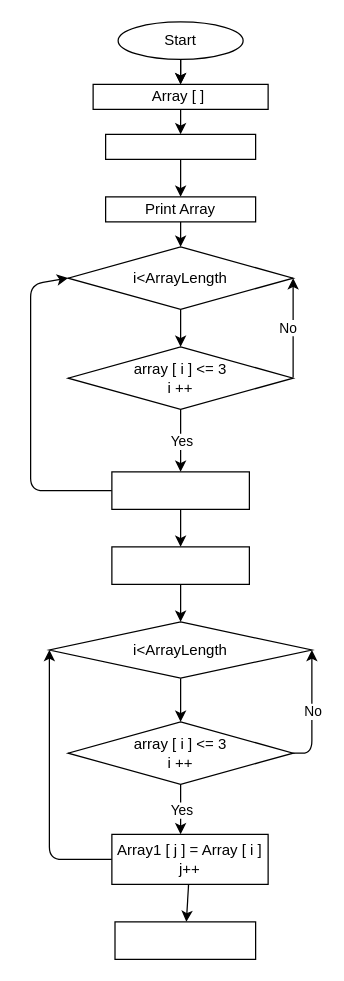
The diagram is 344 pixels wide and 981 high, and some of its shapes have lost their labels. Each missing label, with the centre of its shape:
"Array1 [index]" goes at (180,565).
"Fill Array" goes at (180,146).
"index++" goes at (180,490).
"PrintArray(array1)" goes at (185,940).
